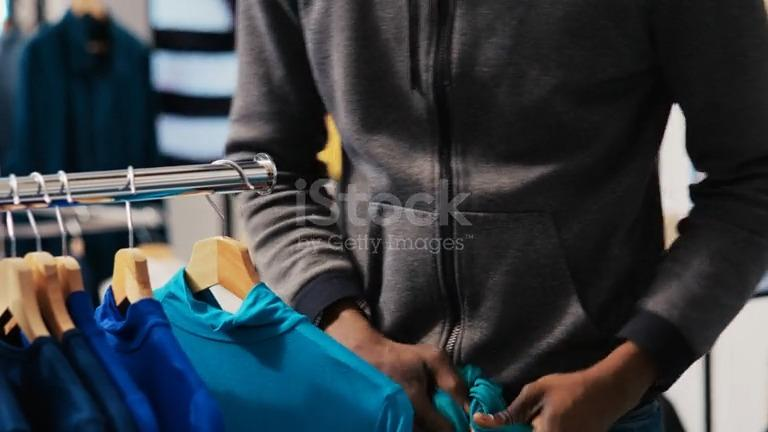Shoplifting: (190, 0, 768, 432)
